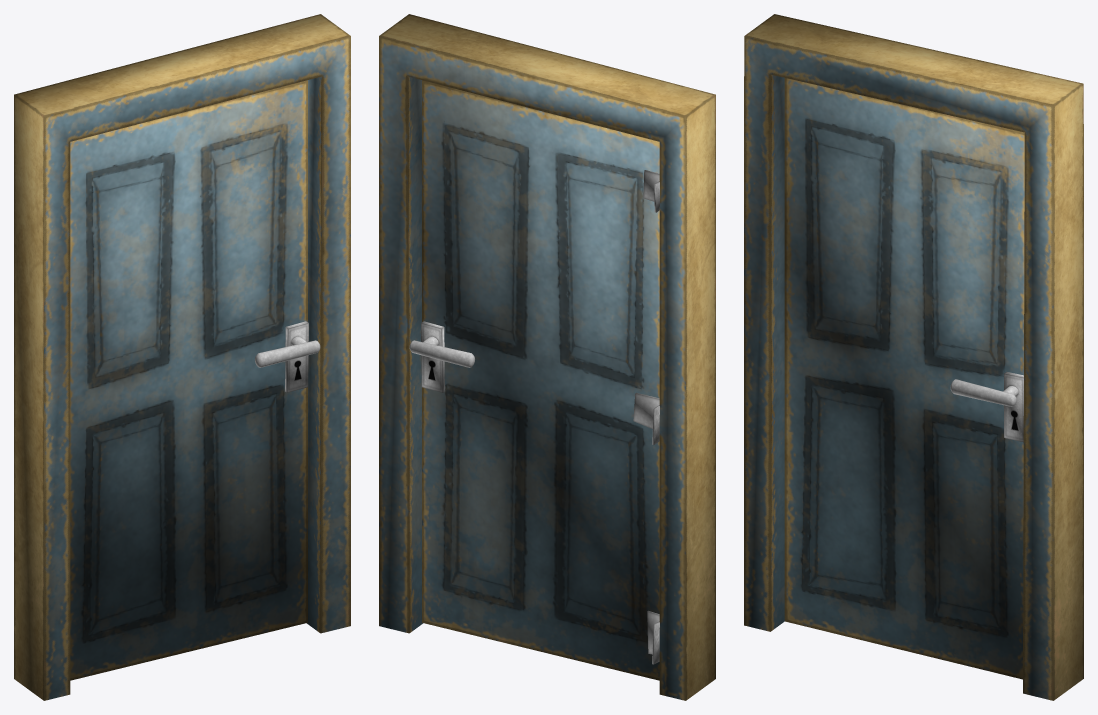
Rendered from Sketchfab_HN3_Door.fbx.
3 views of the same model, side by side, from view 1: azimuth 30°, elevation 25°; view 2: azimuth 150°, elevation 25°; view 3: azimuth 330°, elevation 25° (orthographic).
Visible parts, largest first — view 1: door_a, doorframe_a, doorhandle_a; view 2: door_a, doorframe_a, doorhandle_a; view 3: door_a, doorframe_a, doorhandle_a.
Part boxes in pixels (x1,y1,x2,y2): door_a: (70, 80, 307, 680); doorframe_a: (14, 14, 350, 700); doorhandle_a: (255, 321, 320, 392); door_a: (422, 80, 659, 680); doorframe_a: (379, 14, 715, 700); doorhandle_a: (409, 321, 474, 392); door_a: (784, 78, 1024, 679); doorframe_a: (744, 14, 1083, 700); doorhandle_a: (950, 371, 1023, 442).
Bounding box in the file's own units: 126 × 29.72 × 232.
